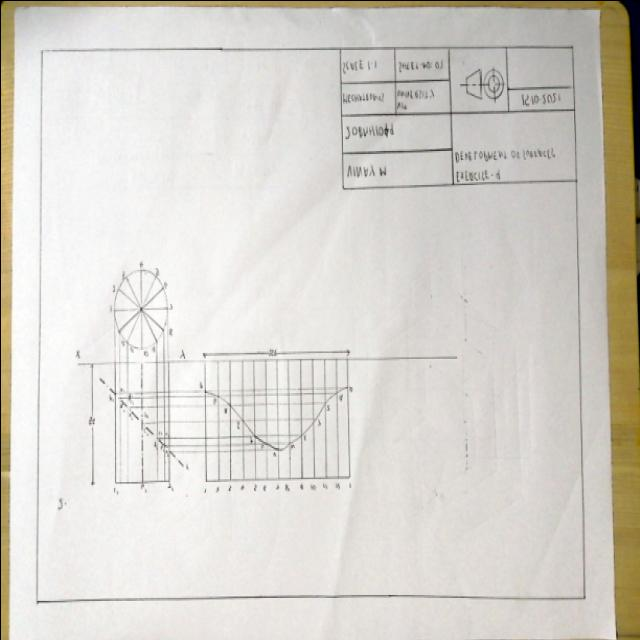Drawings: (69, 250, 362, 508)
